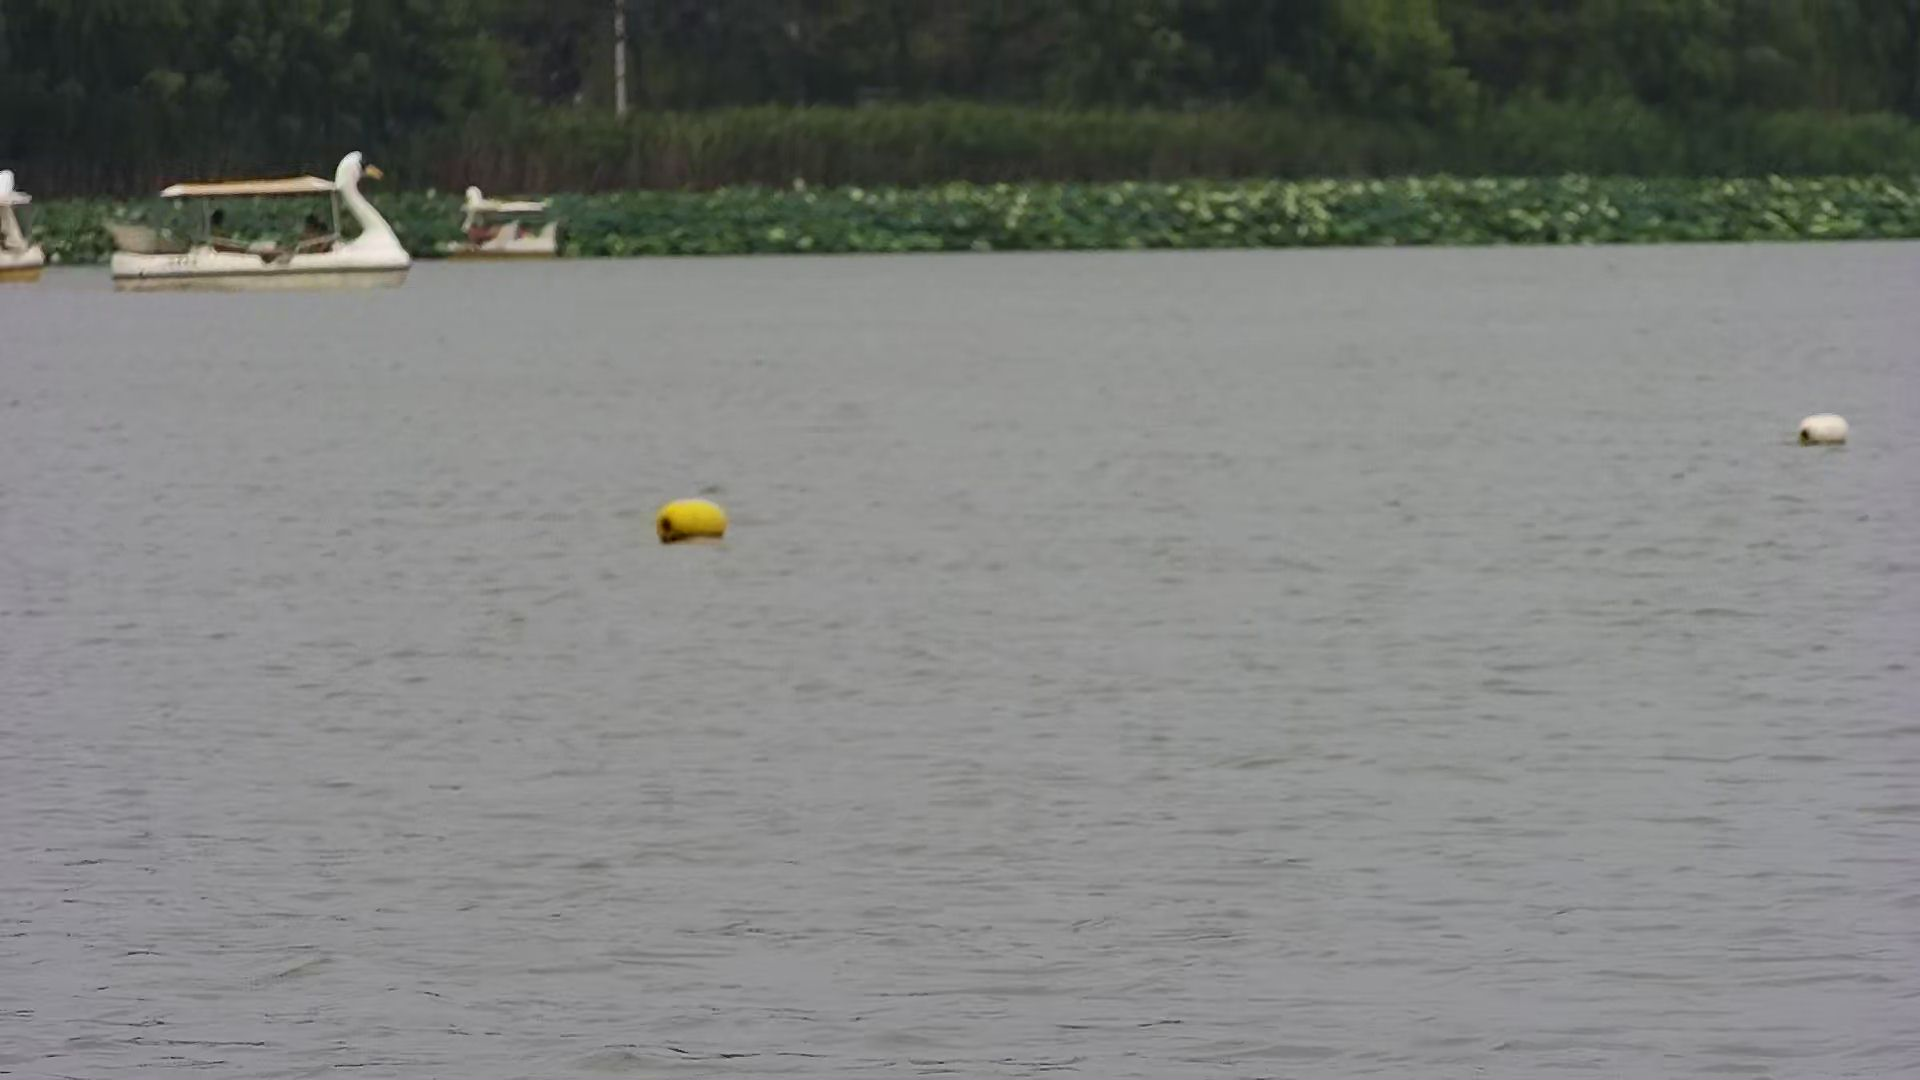boat: (107, 148, 411, 295), (431, 182, 567, 257)
rubbish: (653, 489, 735, 545), (1789, 409, 1862, 454)
